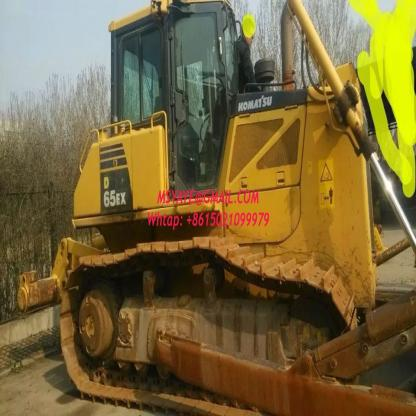bull_dozer/loader/grader: (40, 5, 415, 412)
